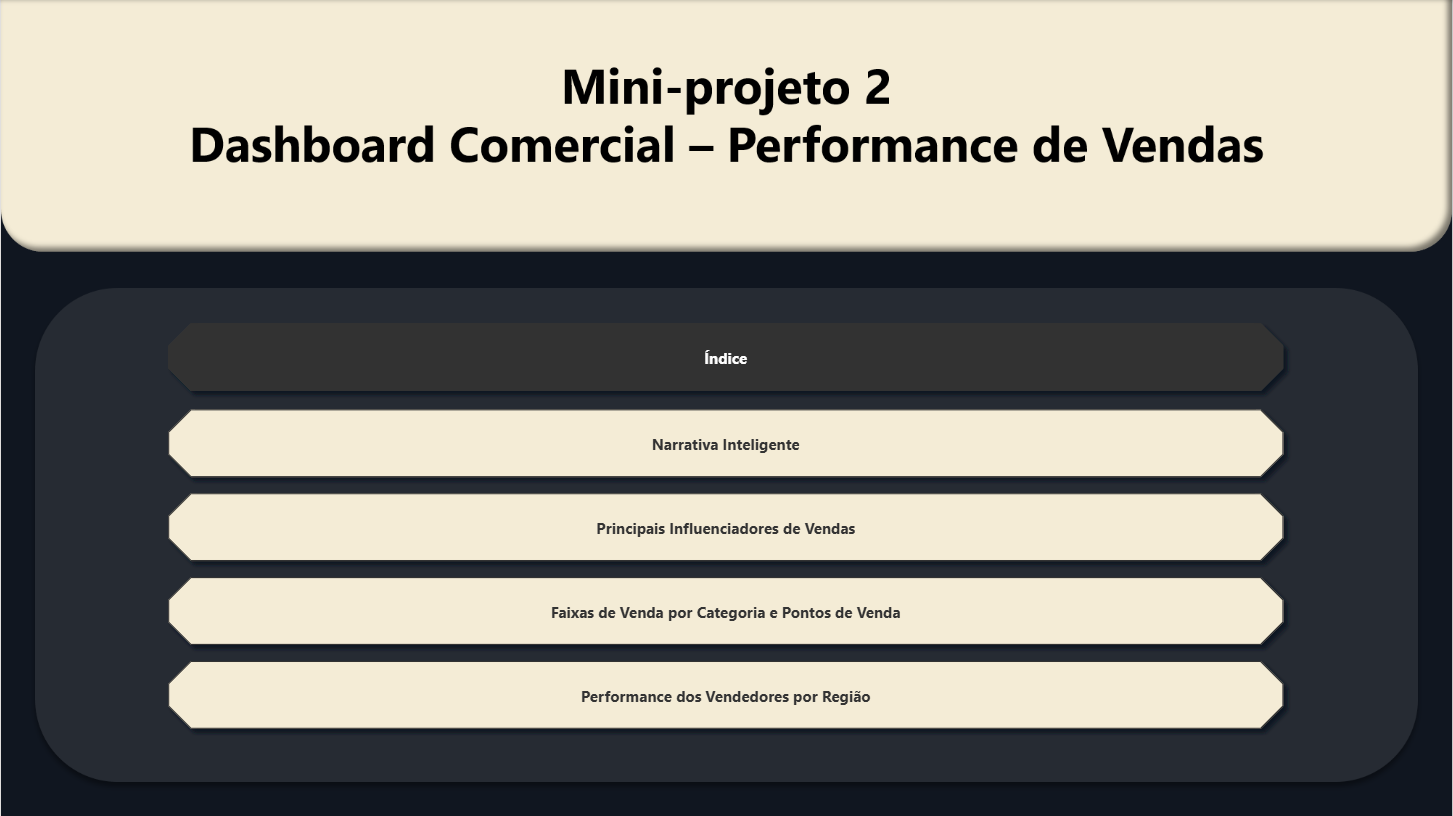

Layout of this report page (visuals, bound fields, positions):
{"tool":"powerbi","page":{"name":"Índice","canvas":[1280,720],"ordinal":0},"visuals":[{"type":"pageNavigator","box":[139.6,276.6,1000.1,375.8],"z":0}]}

Visuals, with their boxes in screenshot pixels (x1, y1, x2, y2), scaled from the page's 1280x720 canvas onto the 1453x816 screenshot:
pageNavigator: (158, 313, 1294, 739)
